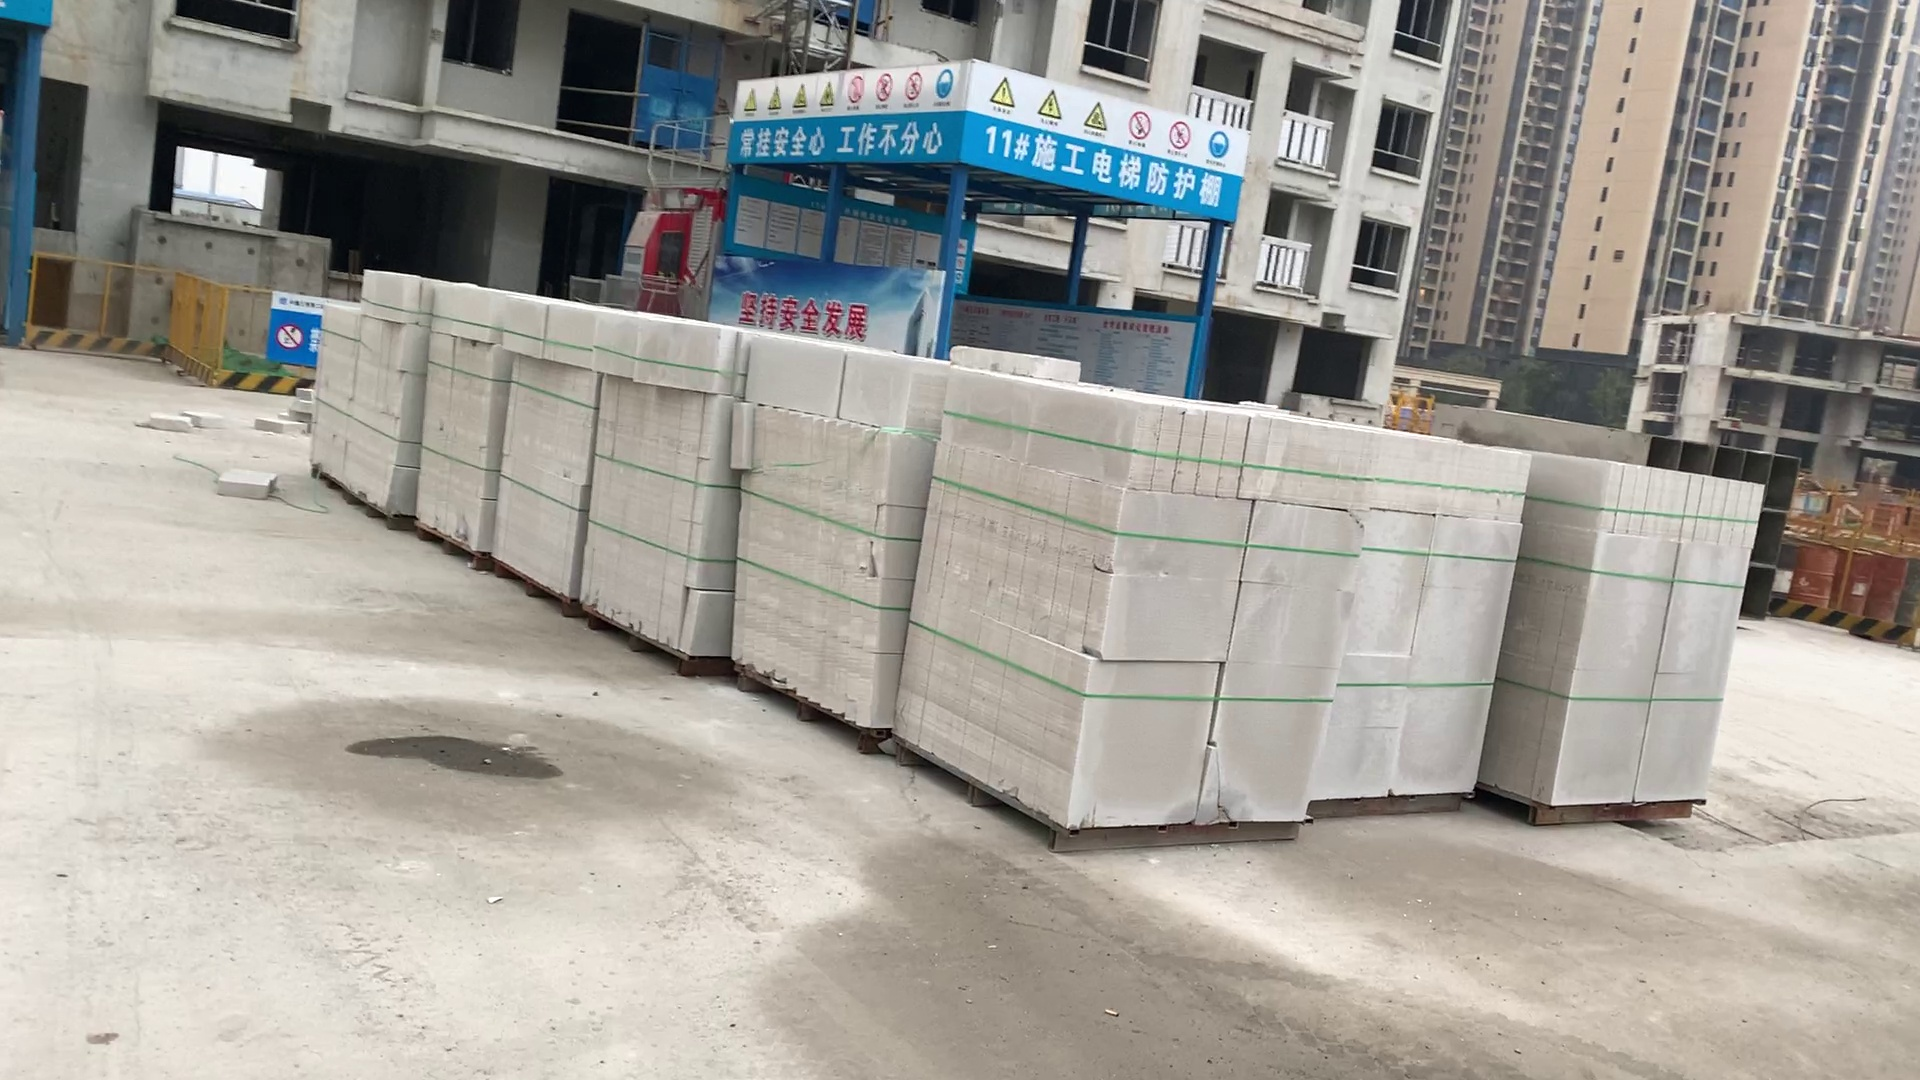brickwork: (922, 365, 1360, 839), (1539, 454, 1758, 833), (727, 342, 903, 716), (1335, 439, 1511, 807), (584, 322, 719, 665), (483, 303, 591, 595), (299, 276, 415, 512), (415, 284, 498, 549)
